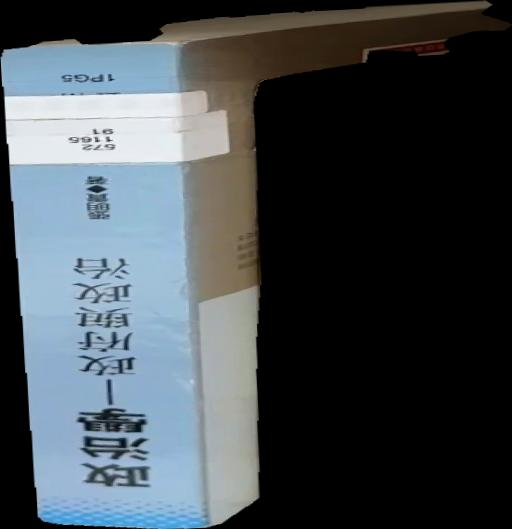reverse: (1, 1, 512, 529)
